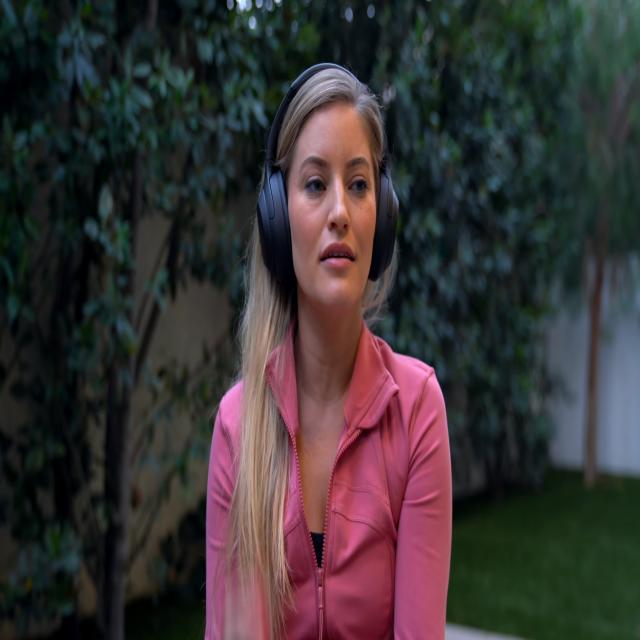Headphone: (256, 58, 400, 291)
